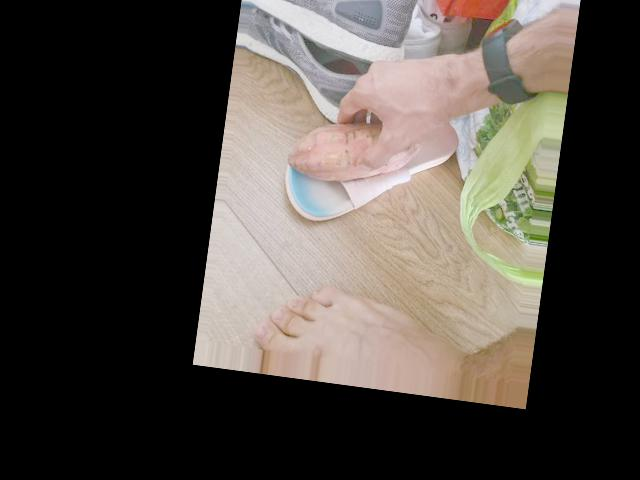sweet_potato: (283, 111, 423, 194)
